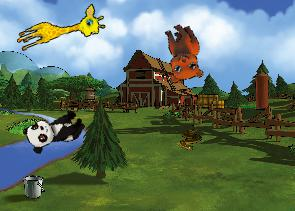bear: (150, 19, 211, 88)
giraffe: (13, 1, 108, 62)
panda: (21, 104, 88, 156)
